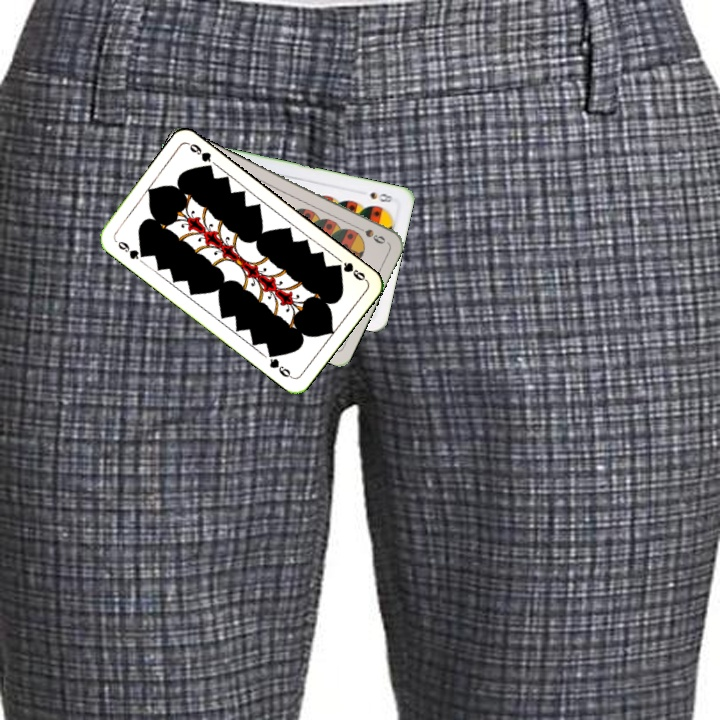G9: (330, 258, 369, 284), (111, 236, 148, 262)
S8: (366, 188, 396, 205)
S9: (351, 222, 388, 247)
